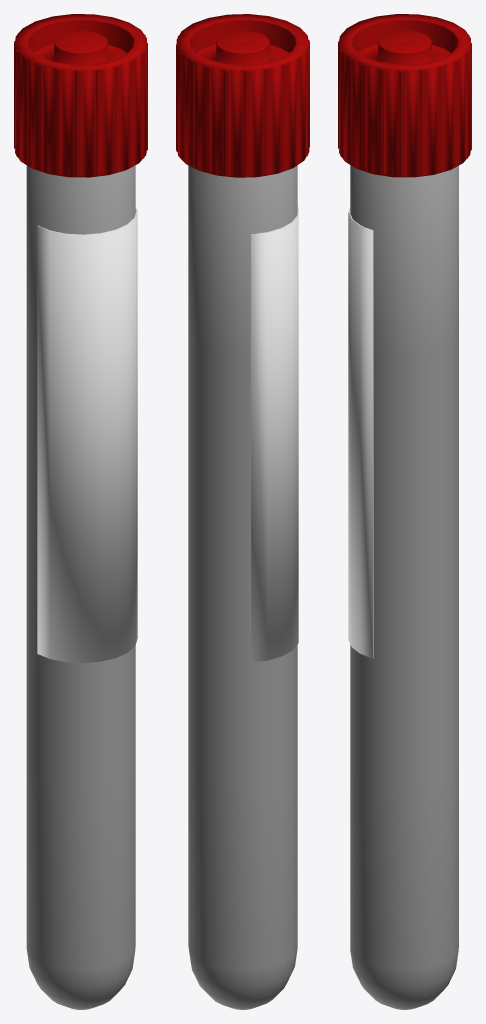
The model's file is single-tube.dae.
The picture shows the model from 3 angles, left to right: view 1: azimuth 90°, elevation 25°; view 2: azimuth 150°, elevation 25°; view 3: azimuth 270°, elevation 25°; orthographic projection.
Visible parts, largest first — view 1: group23_pCylinder66; view 2: group23_pCylinder66; view 3: group23_pCylinder66.
Boxes of the visible parts, bbox=[...] form: group23_pCylinder66: bbox=[14, 14, 147, 1009]; group23_pCylinder66: bbox=[176, 14, 309, 1009]; group23_pCylinder66: bbox=[338, 14, 471, 1009].
Size of the model in its own units: 0.01 by 0.01 by 0.0798.
